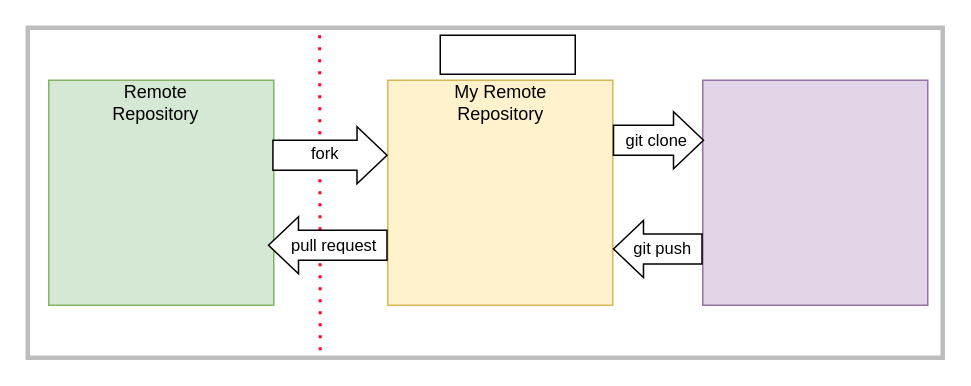
The diagram is 971 pixels wide and 386 high, and some of its shapes have lost their labels. Each missing label, with the centre of its shape:
"My Computer" belongs at (507,54).
"My Local Repository" belongs at (814,192).
